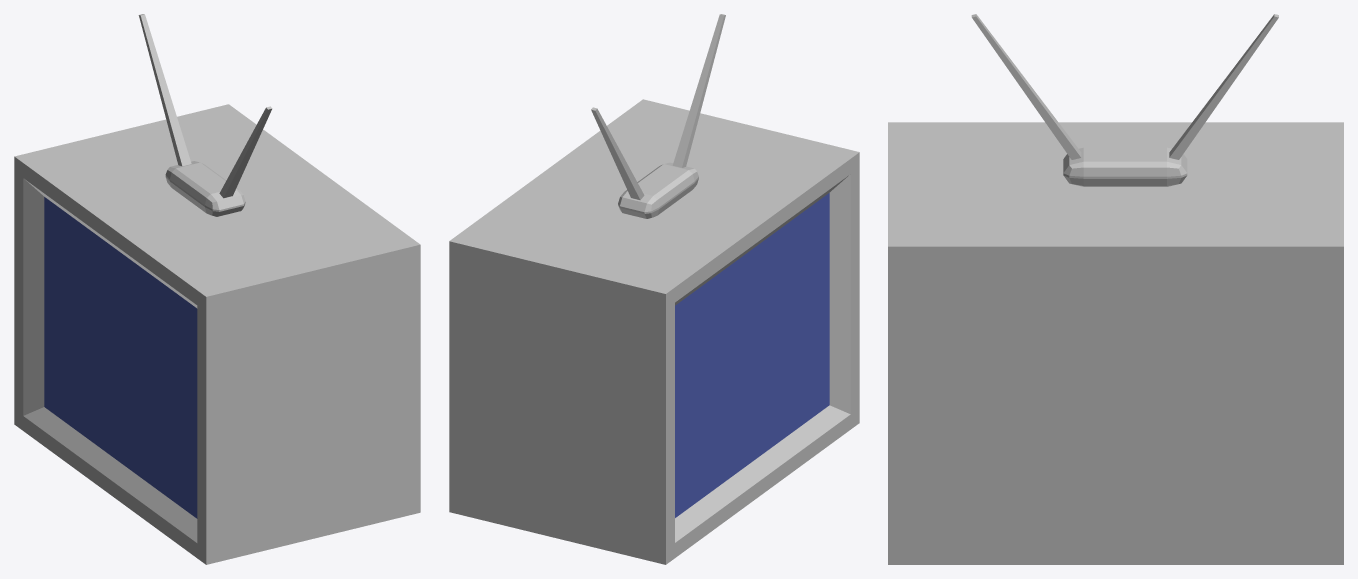
File: Old Screen.fbx
3 renders of one model, left to right at view 1: azimuth 30°, elevation 25°; view 2: azimuth 150°, elevation 25°; view 3: azimuth 270°, elevation 25°, orthographic. The views are drawn at different scales.
Visible parts, largest first — view 1: Old Screen; view 2: Old Screen; view 3: Old Screen.
Part boxes in pixels (x1,y1,x2,y2): Old Screen: (14,14,420,564); Old Screen: (449,14,859,564); Old Screen: (888,14,1343,564).
Bounding box in the file's own units: 0.351 × 0.6362 × 0.5441.
